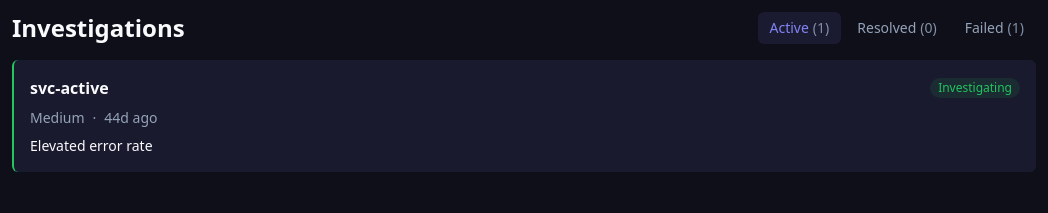
Scenario: InvestigationListPage — status-group filter + Pending distinctness (FR22) › switching to the "Failed" group filters to failed investigations only
Expected: the link with aria-label "svc-active investigation" is shown, [12,60,1036,172]
Click the tab "Failed(1)": (994, 28) [953,12,1036,44]
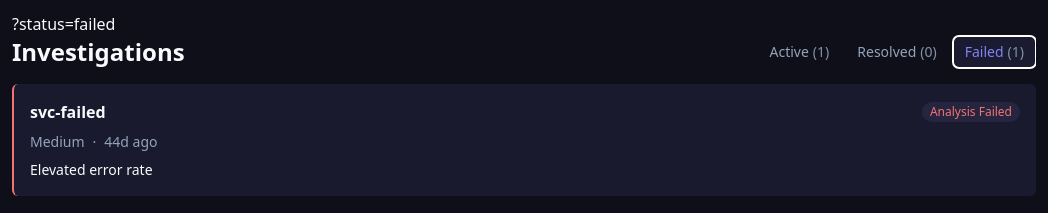
Result: the link with aria-label "svc-failed investigation" is shown at [12,84,1036,196]
